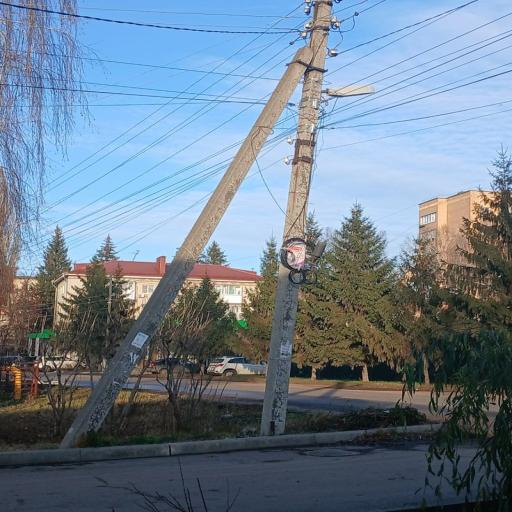bottle: (208, 357, 267, 376), (149, 357, 200, 373)
construction_fence: (0, 424, 441, 466)
phone: (60, 47, 313, 447), (284, 0, 332, 240)
